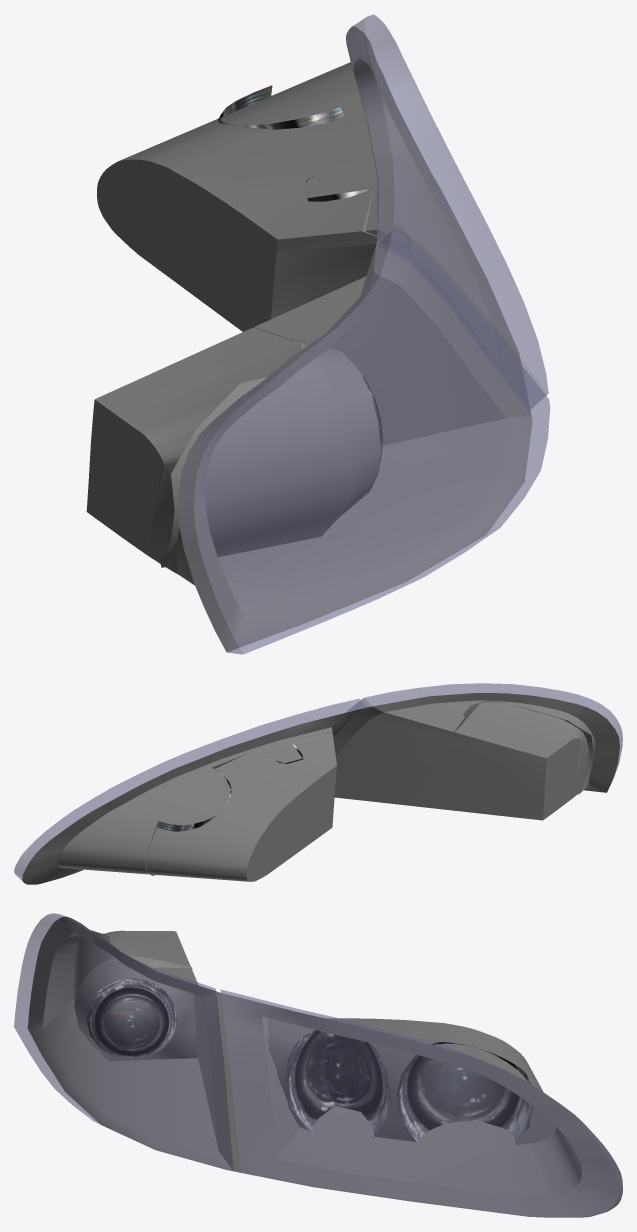
3 renders of one model, top to bottom at view 1: azimuth 30°, elevation 25°; view 2: azimuth 150°, elevation 25°; view 3: azimuth 270°, elevation 25°, orthographic. The views are drawn at different scales.
Visible parts, largest first — view 1: Y210_061B_R_Y210_061B_R_5_N, Y210_061B_R_Y210_061B_R_4_DTaSI, Y210_061B_R_Y210_061B_R_6_DTaSI, Y210_061B_R_Y210_061B_R_3_N; view 2: Y210_061B_R_Y210_061B_R_5_N, Y210_061B_R_Y210_061B_R_6_DTaSI, Y210_061B_R_Y210_061B_R_4_DTaSI, Y210_061B_R_Y210_061B_R_3_N; view 3: Y210_061B_R_Y210_061B_R_5_N, Y210_061B_R_Y210_061B_R_6_DTaSI, Y210_061B_R_Y210_061B_R_4_DTaSI, Y210_061B_R_Y210_061B_R_2_N, Y210_061B_R_Y210_061B_R_3_N, Y210_061B_R_1_N_Y210_061B_R.
Boxes of the visible parts, bbox=[...] form: Y210_061B_R_Y210_061B_R_5_N: bbox=[86, 26, 532, 651]; Y210_061B_R_Y210_061B_R_4_DTaSI: bbox=[178, 229, 550, 654]; Y210_061B_R_Y210_061B_R_6_DTaSI: bbox=[346, 14, 548, 409]; Y210_061B_R_Y210_061B_R_3_N: bbox=[218, 85, 345, 129]; Y210_061B_R_Y210_061B_R_5_N: bbox=[22, 693, 619, 884]; Y210_061B_R_Y210_061B_R_6_DTaSI: bbox=[14, 698, 366, 880]; Y210_061B_R_Y210_061B_R_4_DTaSI: bbox=[346, 683, 622, 780]; Y210_061B_R_Y210_061B_R_3_N: bbox=[157, 768, 231, 831]; Y210_061B_R_Y210_061B_R_5_N: bbox=[27, 916, 622, 1217]; Y210_061B_R_Y210_061B_R_6_DTaSI: bbox=[220, 989, 622, 1217]; Y210_061B_R_Y210_061B_R_4_DTaSI: bbox=[14, 913, 233, 1170]; Y210_061B_R_Y210_061B_R_2_N: bbox=[284, 1030, 389, 1136]; Y210_061B_R_Y210_061B_R_3_N: bbox=[396, 1042, 533, 1144]; Y210_061B_R_1_N_Y210_061B_R: bbox=[86, 978, 177, 1060].
Size of the model in its own units: 44.34 by 13.9 by 54.94.
